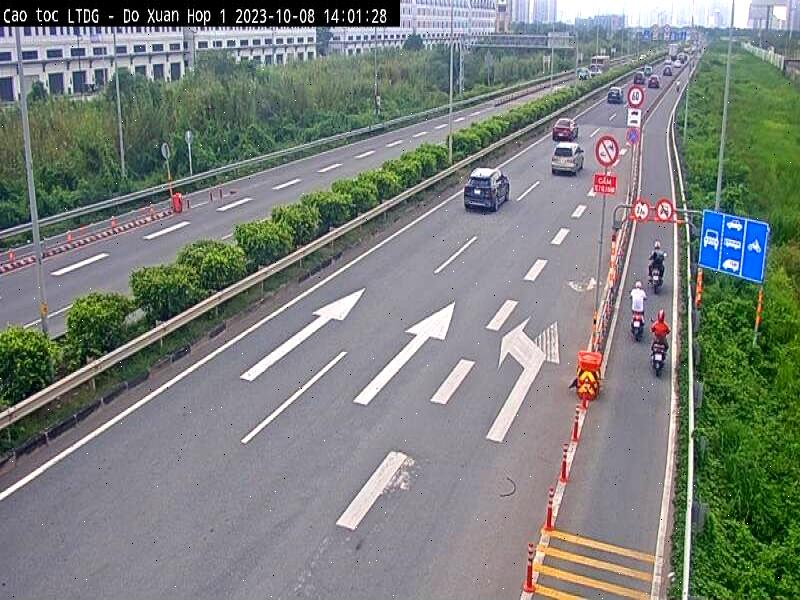car: (457, 156, 523, 241), (549, 138, 584, 199), (606, 74, 621, 140), (550, 111, 578, 144)
motorcycle: (644, 333, 674, 379), (635, 258, 671, 294), (620, 304, 649, 347)
